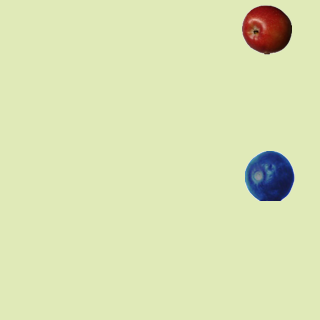Apple Braeburn: (241, 4, 291, 54)
Huckleberry: (244, 150, 294, 200)
